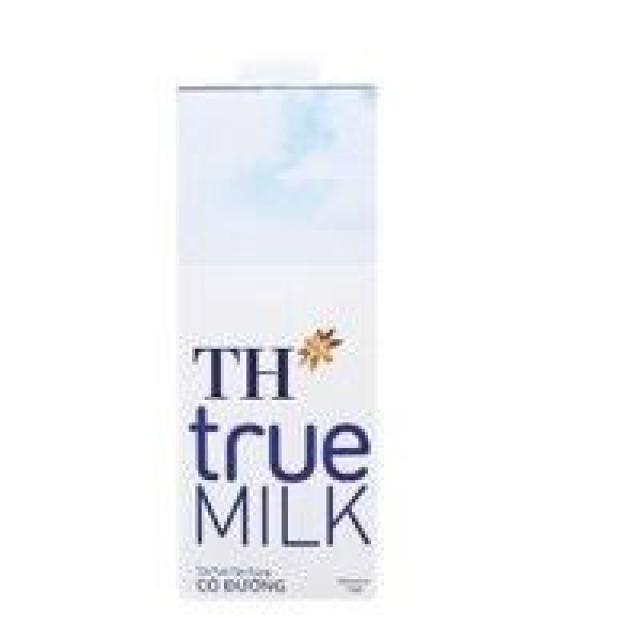non_white_jug: (154, 32, 390, 614)
